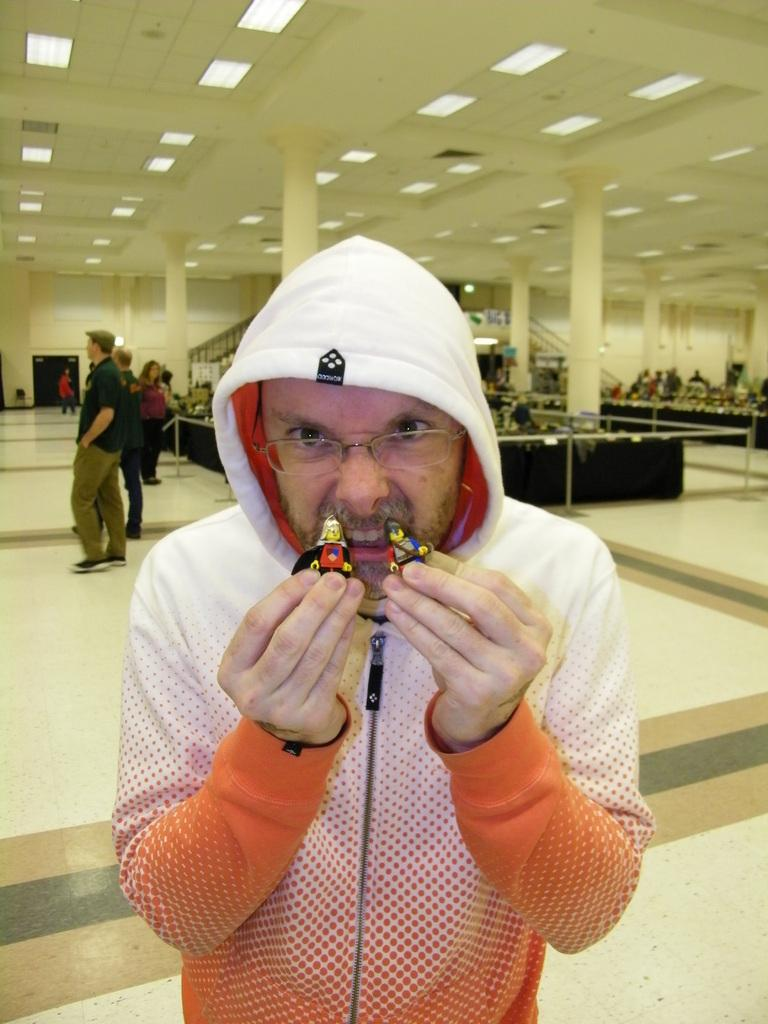Sem Máscara: (276, 384, 455, 589)
